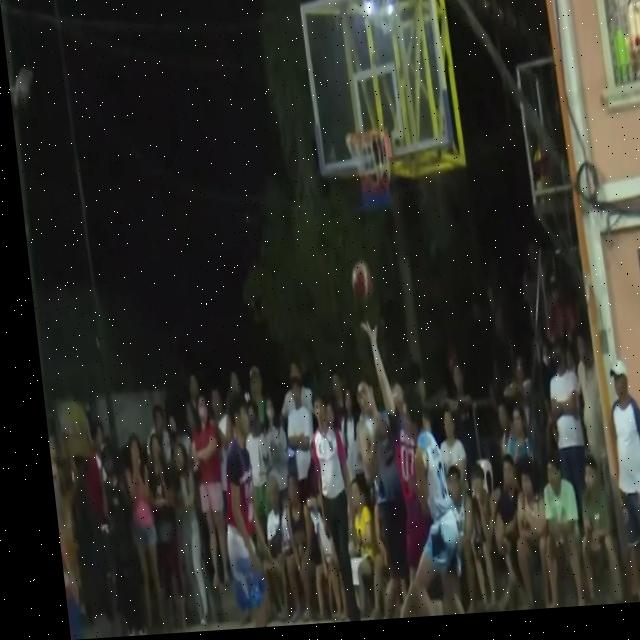basketball: (347, 257, 380, 317)
hoop: (343, 124, 398, 216)
